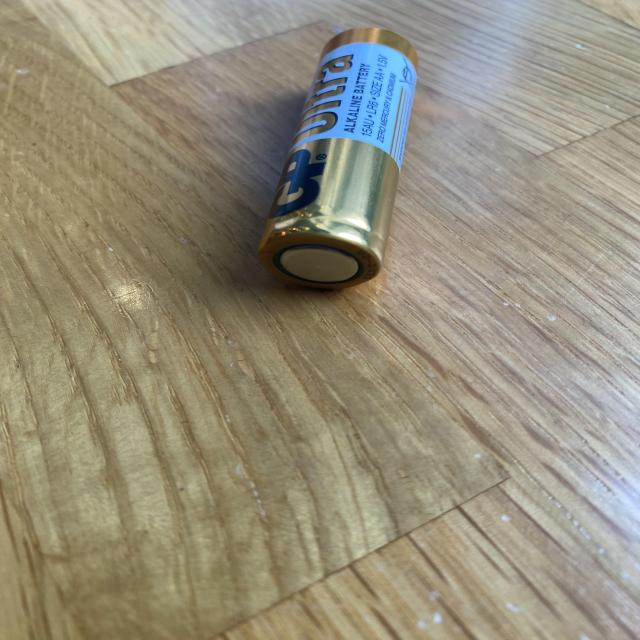AA: (256, 26, 418, 290)
